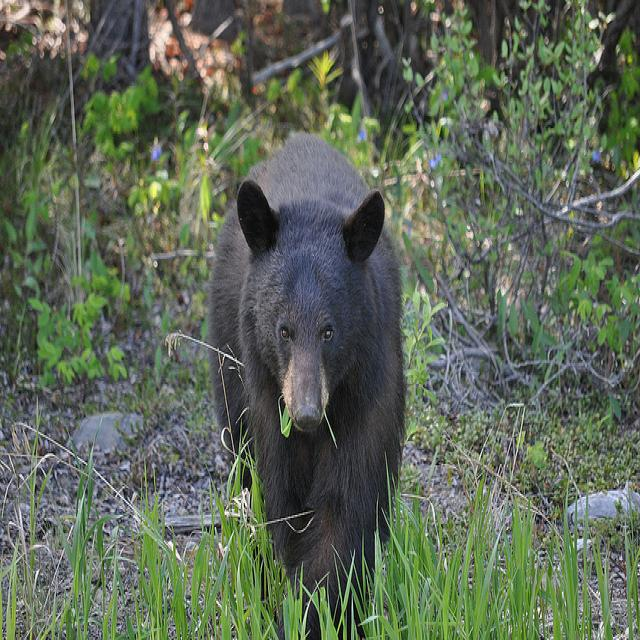Bear: (208, 129, 410, 640)
